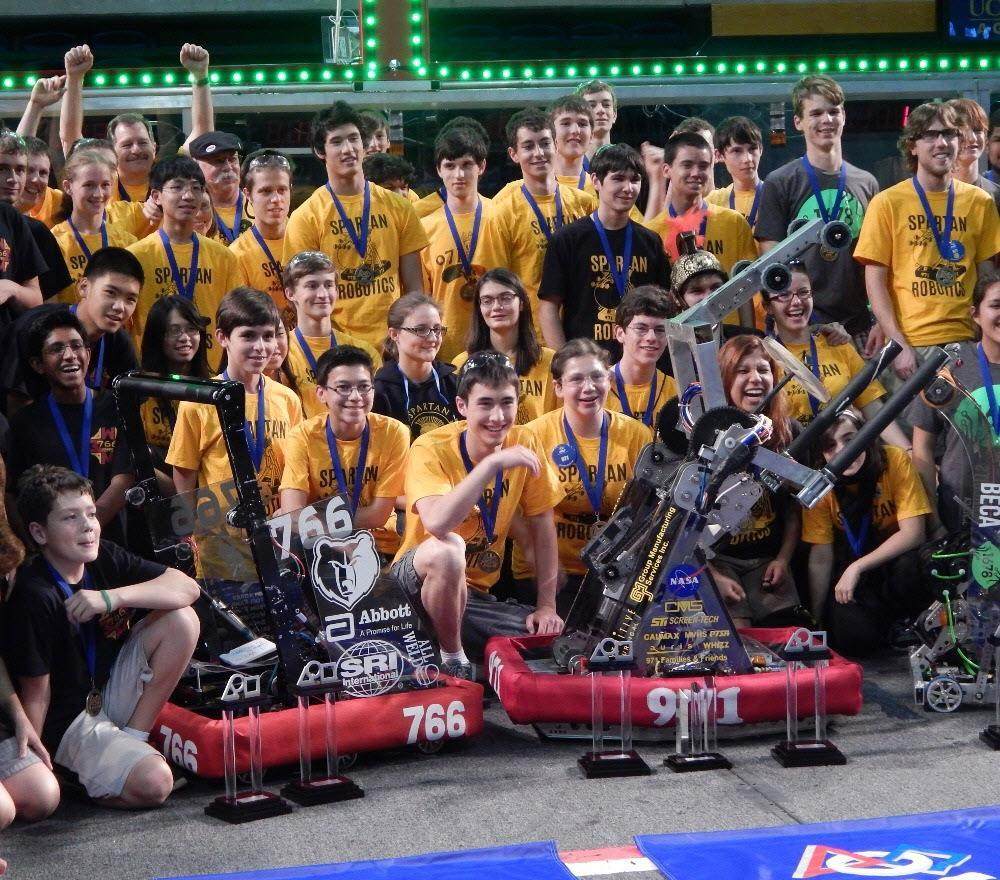robot: (470, 210, 964, 750), (96, 366, 493, 785), (903, 465, 1000, 719)
